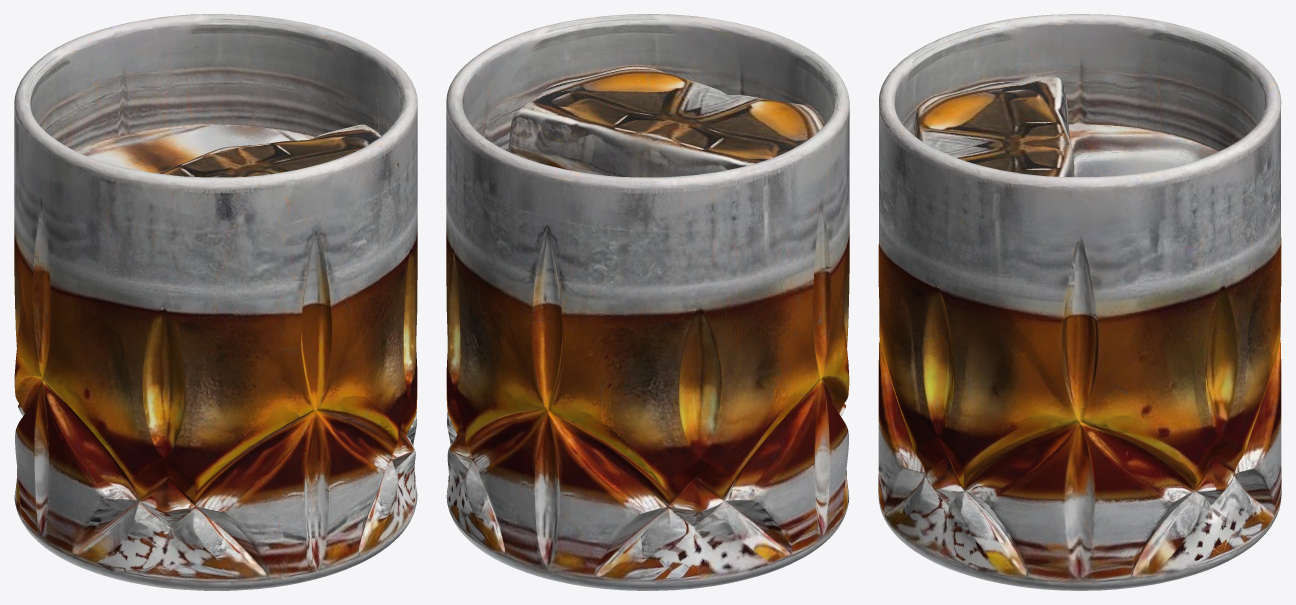
The model's file is night-ferry.glb.
3 views of the same model, side by side, from view 1: azimuth 30°, elevation 25°; view 2: azimuth 150°, elevation 25°; view 3: azimuth 270°, elevation 25° (orthographic).
Parts seen in each view (by area): view 1: Mesh_0; view 2: Mesh_0; view 3: Mesh_0.
Part boxes in pixels (x1=…): Mesh_0: x1=14, y1=14, x2=417, y2=590; Mesh_0: x1=446, y1=14, x2=849, y2=590; Mesh_0: x1=878, y1=14, x2=1281, y2=590.
Size of the model in its own units: 1.67 by 1.9 by 1.67.
Materials: 1 (1 with a texture image).
